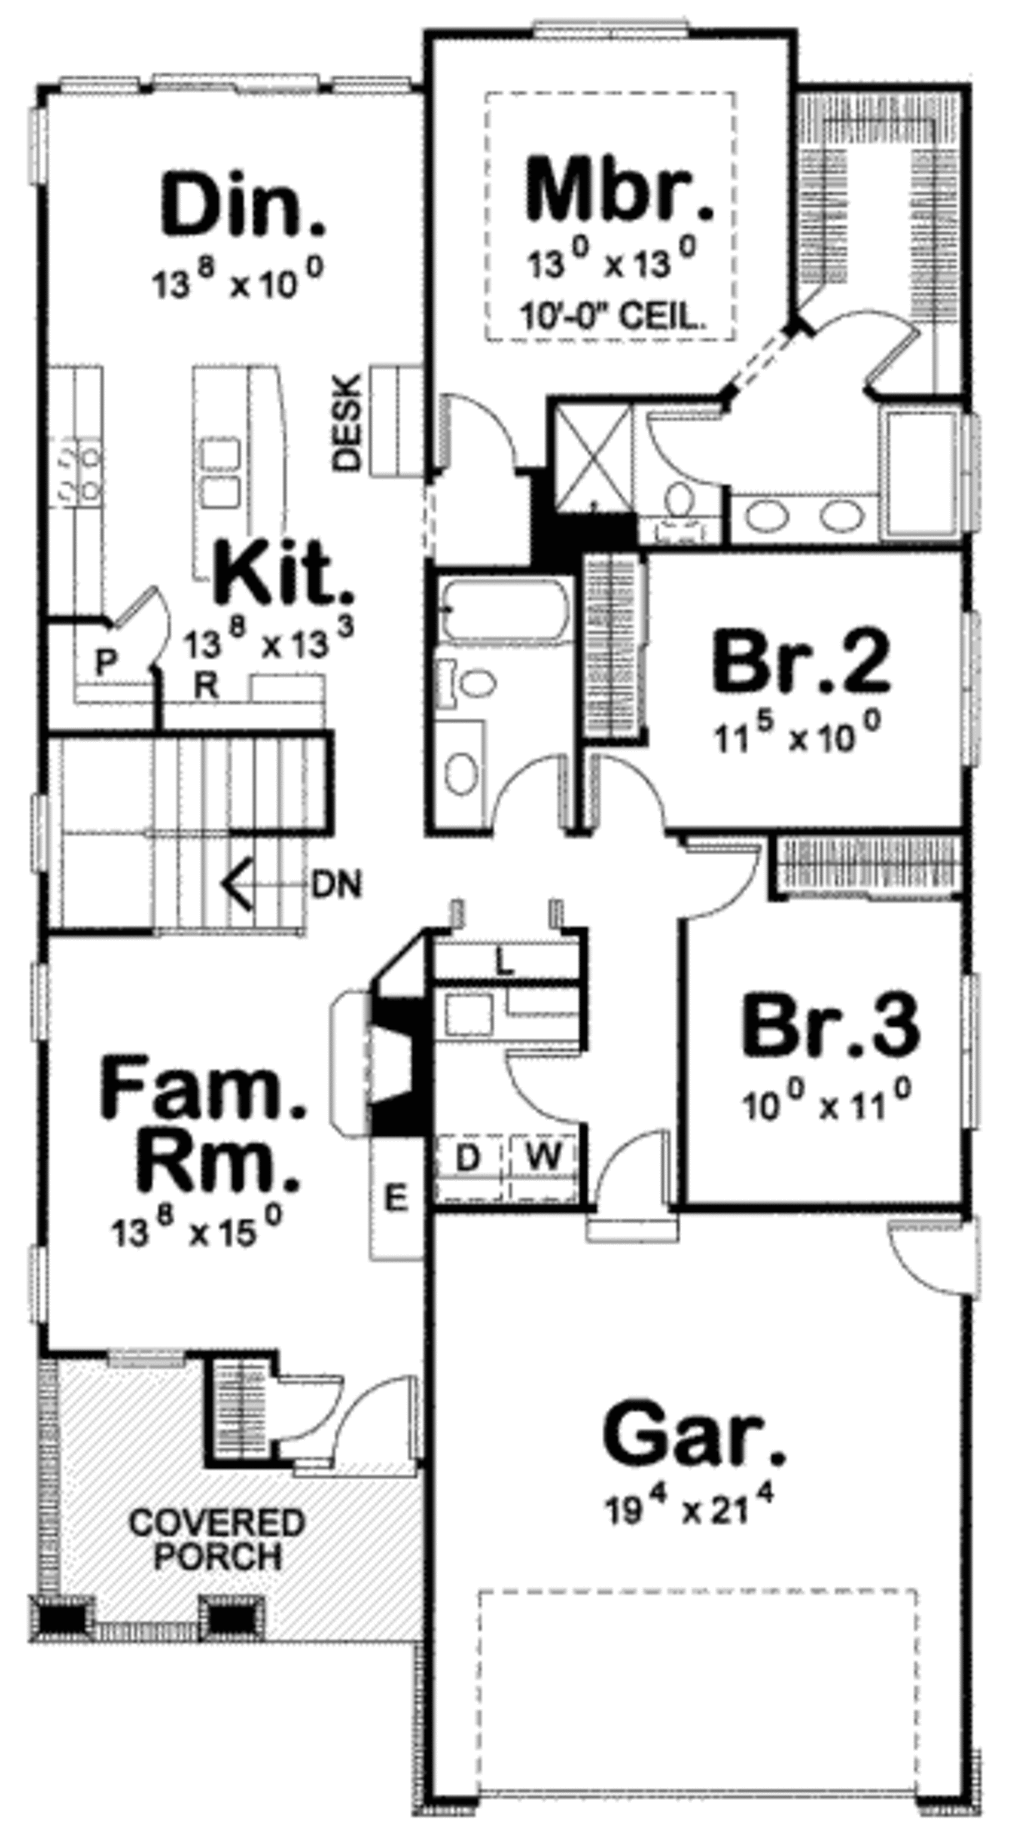door: (799, 278, 918, 389), (579, 1129, 692, 1244), (320, 1369, 426, 1482), (880, 1203, 999, 1299), (423, 381, 524, 484), (253, 1365, 343, 1458), (650, 404, 741, 487), (592, 734, 668, 832), (673, 837, 760, 920), (498, 1048, 588, 1126), (106, 584, 186, 670), (490, 740, 567, 829)
kitchen_bar: (196, 371, 302, 626)
large_sink: (422, 646, 503, 720), (643, 480, 711, 553)
small_sink: (735, 487, 882, 536), (423, 727, 481, 838)
stairs: (31, 727, 335, 952)
tub: (435, 567, 588, 642)
twin_sink: (192, 430, 271, 525)
window: (62, 67, 420, 103), (937, 967, 990, 1152), (16, 104, 85, 209), (530, 14, 709, 52), (956, 585, 983, 791), (20, 1247, 69, 1335), (33, 958, 67, 1050)
